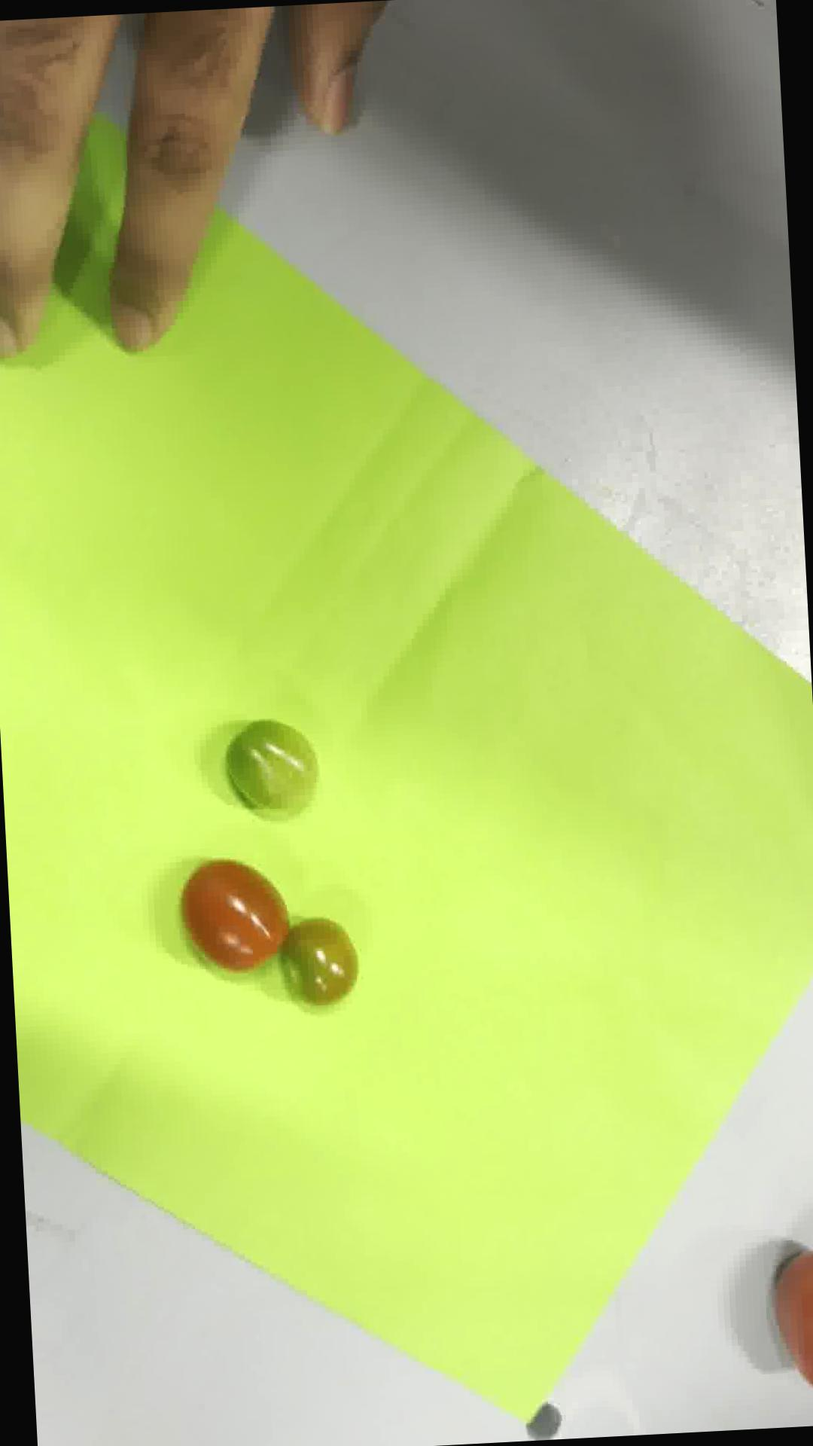green_cherry_tomato: (224, 719, 318, 819)
red_cherry_tomato: (181, 859, 288, 971)
yellow_cherry_tomato: (283, 917, 357, 1005)
